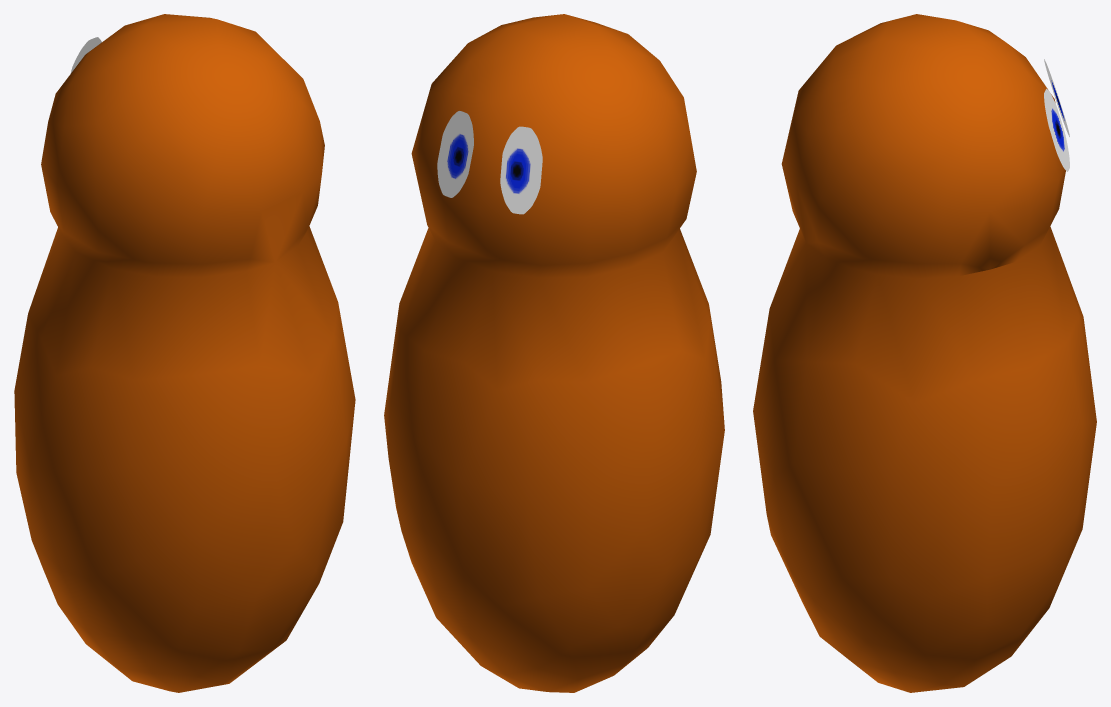
Rendered from leafy.lod1.obj.
3 renders of one model, left to right at view 1: azimuth 30°, elevation 25°; view 2: azimuth 150°, elevation 25°; view 3: azimuth 270°, elevation 25°, orthographic.
Visible parts, largest first — view 1: leafy; view 2: leafy; view 3: leafy.
Boxes of the visible parts, left/top/right/bottom form: leafy: left=14, top=14, right=355, bottom=692; leafy: left=384, top=14, right=724, bottom=692; leafy: left=753, top=14, right=1096, bottom=692.
Bounding box in the file's own units: 0.5774 × 1.2 × 0.581.
